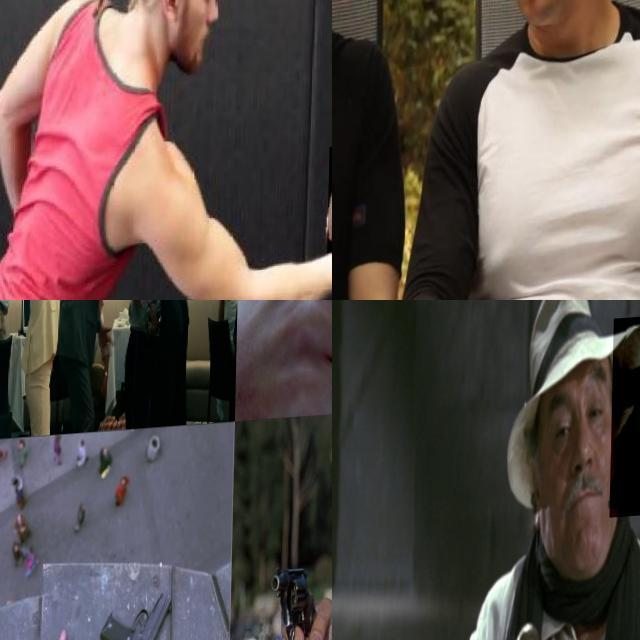-: (332, 0, 370, 100)
gun-knife-thesis - v11 Yolov5 augmented: (610, 317, 640, 523), (268, 560, 332, 640), (98, 594, 174, 640), (198, 300, 220, 317), (0, 300, 11, 318)
